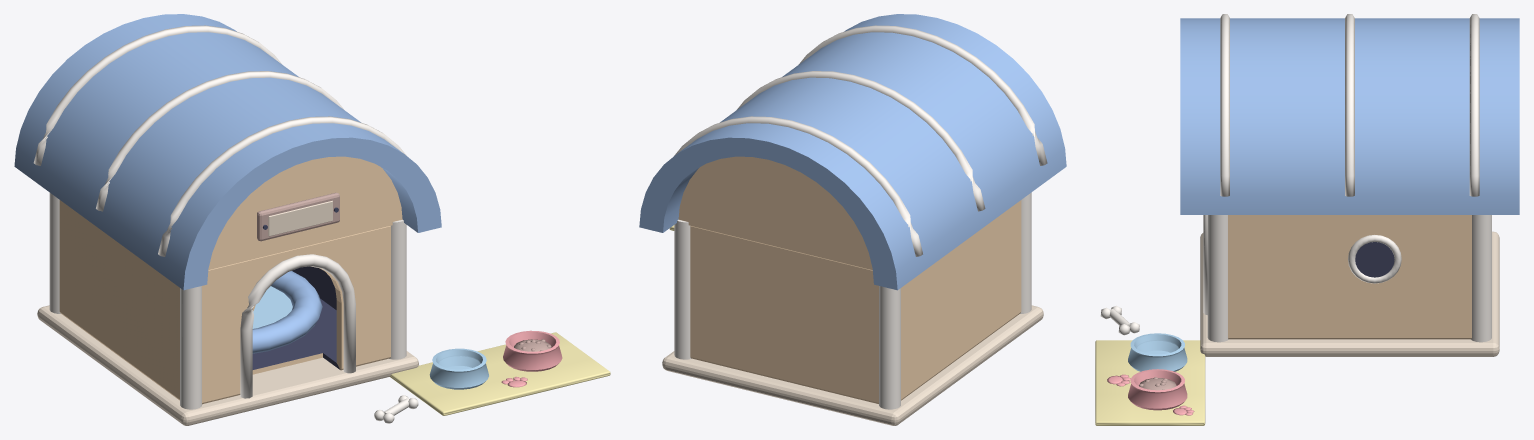
The model's file is casinha-retro.glb.
3 views of the same model, side by side, from view 1: azimuth 30°, elevation 25°; view 2: azimuth 150°, elevation 25°; view 3: azimuth 270°, elevation 25° (orthographic).
Visible parts, largest first — view 1: casinha, texto, placa; view 2: casinha; view 3: casinha.
Part boxes in pixels (box(x1,y1,x2,y2)): casinha: box(14, 14, 610, 425); texto: box(268, 200, 332, 236); placa: box(257, 192, 339, 241); casinha: box(639, 14, 1066, 425); casinha: box(1095, 14, 1519, 425).
Size of the model in its own units: 1.8 by 1.2 by 1.7.
